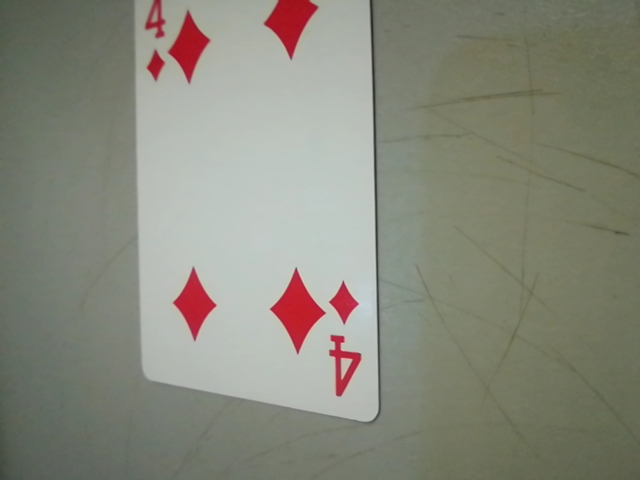fk 4: (316, 269, 371, 407)
